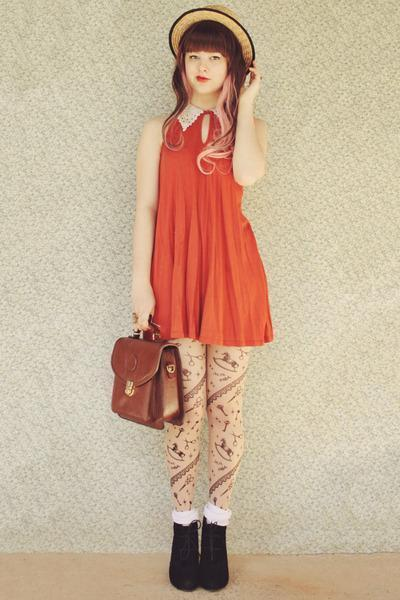bag: (111, 324, 192, 429)
dress: (147, 108, 272, 346)
hat: (168, 0, 251, 59)
pants: (168, 338, 258, 525)
shoe: (169, 516, 227, 591)
